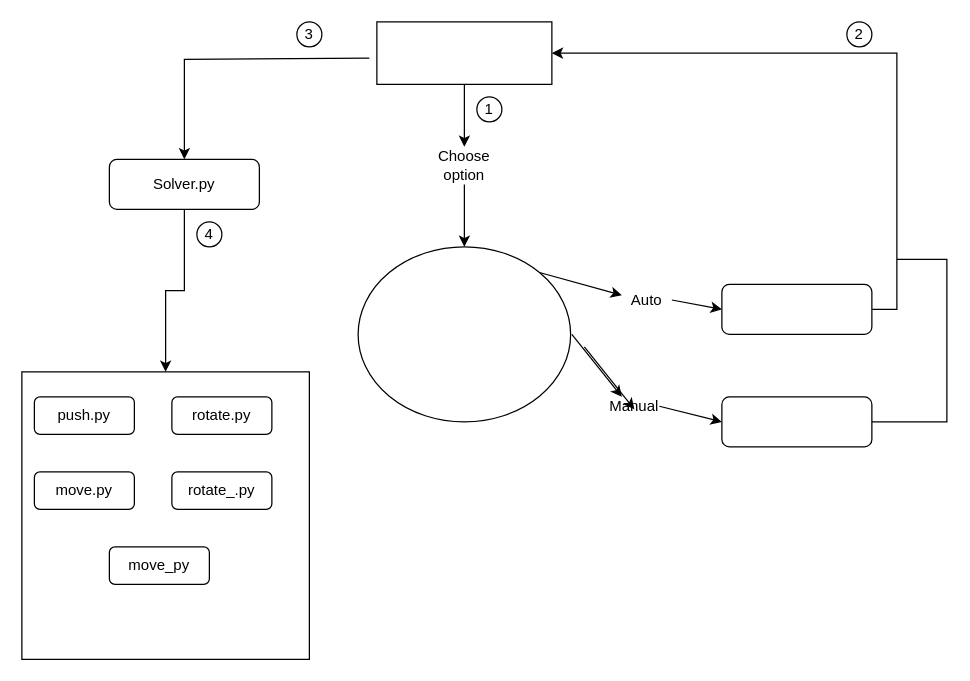
Some shapes in this 970 by 681 pixel diagram are drawn without their labels. The box of each missing label's shape, as (x1, y1, x2, y2) in pixels:
-Replicube - Auto -Manual - Solver -Auto -Manual: (357, 246, 571, 422)
Main.py: (376, 21, 552, 84)
ScanManual.py: (721, 396, 872, 447)
Scanner.py: (721, 283, 872, 334)
